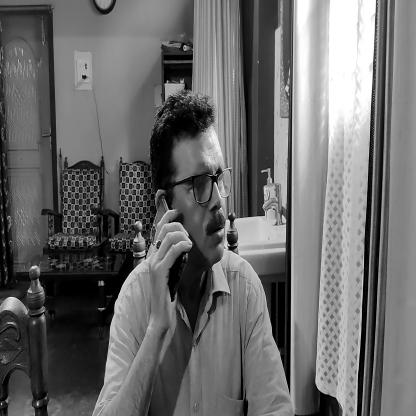Distracted: (180, 110, 250, 276)
